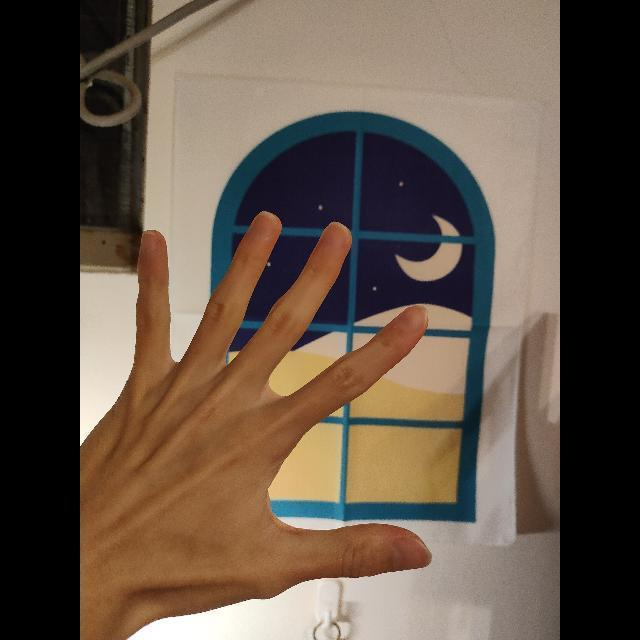bare_hand: (81, 210, 433, 623)
